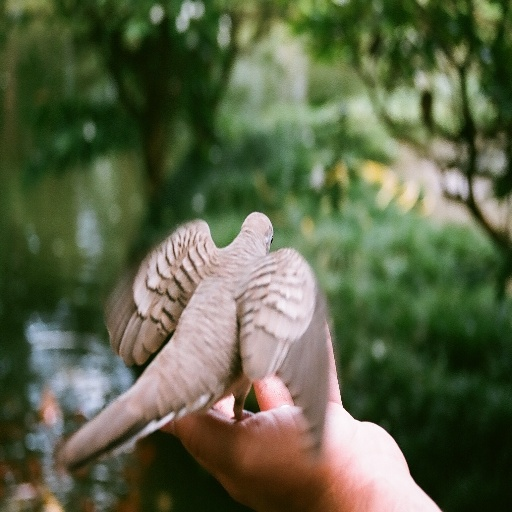hand: (172, 295, 434, 512)
